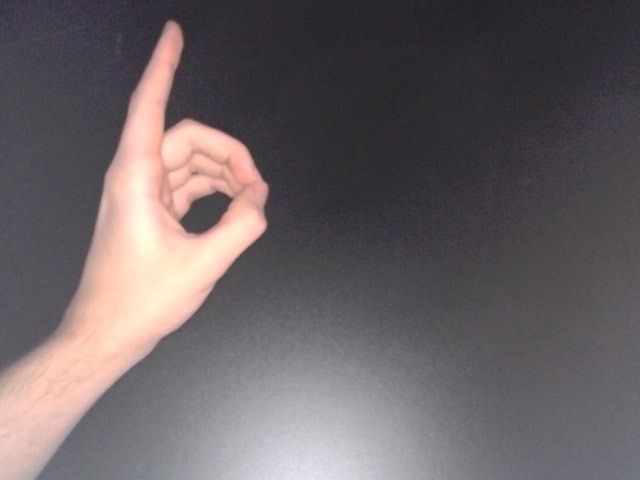d: (65, 16, 274, 349)
